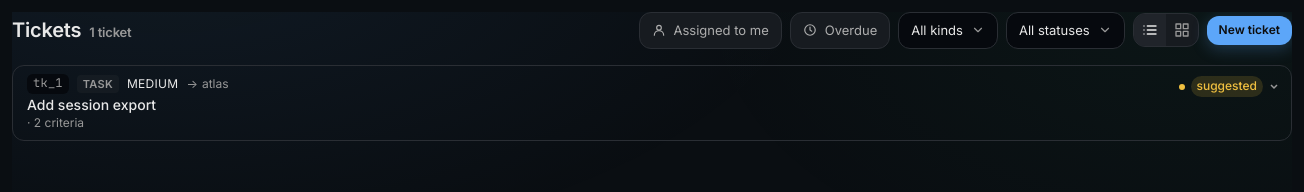
Test: TicketsTab › status action is independent of row select — opening it does not expand the row (R2)
The width and height of the screenshot is (1304, 192).
Step 1. Click the button "suggested" → [1229, 87], box [1174,74,1283,99]
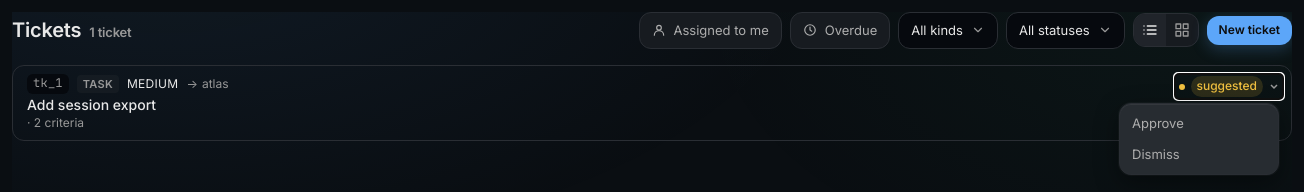
Expected: the menu item "Approve" is shown, [1120,108,1278,139]
